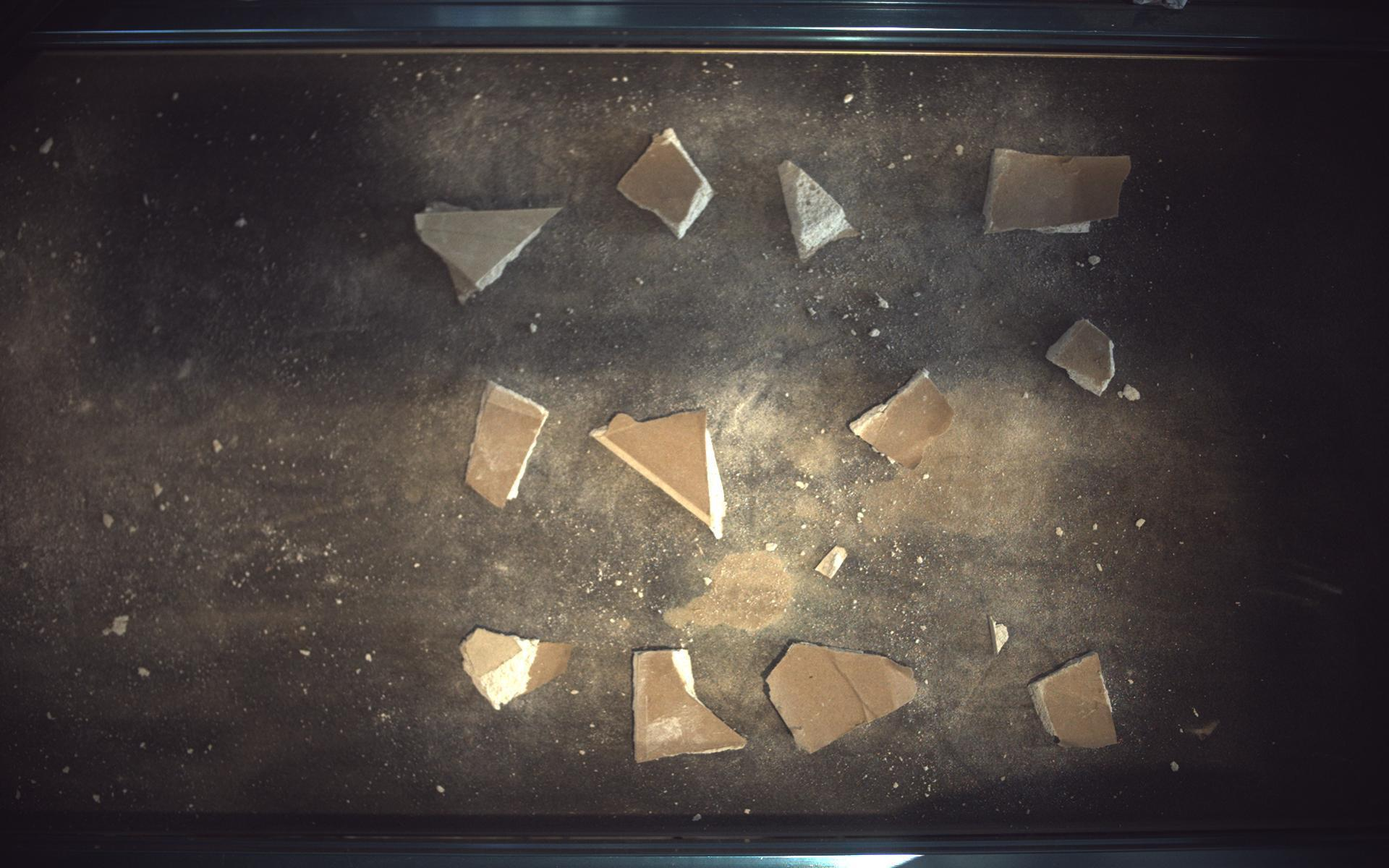gypsum_board: (592, 409, 727, 540), (768, 644, 919, 754), (415, 201, 562, 303), (634, 650, 747, 764), (985, 148, 1134, 233), (618, 127, 715, 238), (466, 380, 549, 509), (851, 369, 956, 468), (459, 628, 572, 711), (1031, 653, 1121, 749), (780, 159, 862, 260), (1048, 318, 1118, 396)
